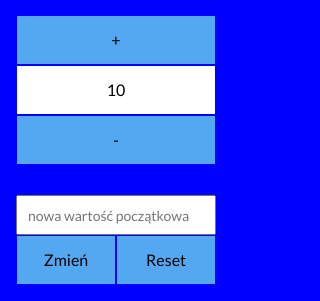
Scenario: Counter E2E tests › should decrement result -1 on button "-" click
Expected: the text with test id "result" reads "10", x1=16 y1=65 x2=216 y2=115
Click the button with test id "subtractionButton".
click(116, 140)  # box x1=16 y1=115 x2=216 y2=165
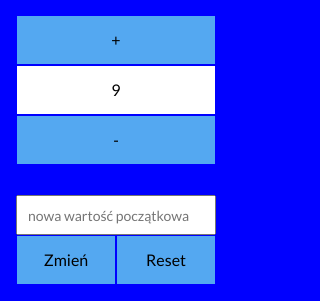
Now the text with test id "result" reads "9", box x1=16 y1=65 x2=216 y2=115
